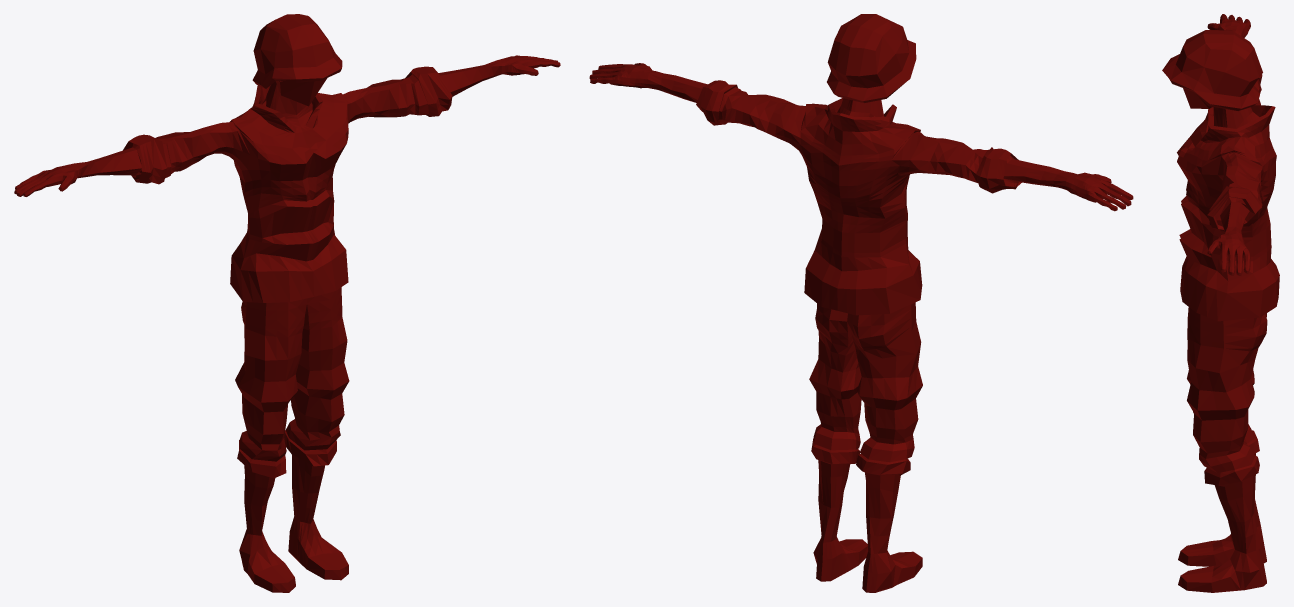
The model's file is soldier.obj.
The picture shows the model from 3 angles, left to right: view 1: azimuth 30°, elevation 25°; view 2: azimuth 150°, elevation 25°; view 3: azimuth 270°, elevation 25°; orthographic projection. The views are drawn at different scales.
Parts seen in each view (by area): view 1: Soldier_Soldat_GEOM_SOLDAT_Soldat_Helm; view 2: Soldier_Soldat_GEOM_SOLDAT_Soldat_Helm; view 3: Soldier_Soldat_GEOM_SOLDAT_Soldat_Helm.
Boxes of the visible parts, x1,y1,x2,y2 form: Soldier_Soldat_GEOM_SOLDAT_Soldat_Helm: [14, 14, 560, 592]; Soldier_Soldat_GEOM_SOLDAT_Soldat_Helm: [589, 14, 1133, 592]; Soldier_Soldat_GEOM_SOLDAT_Soldat_Helm: [1162, 14, 1279, 592].
Size of the model in its own units: 152 by 148 by 29.41.
